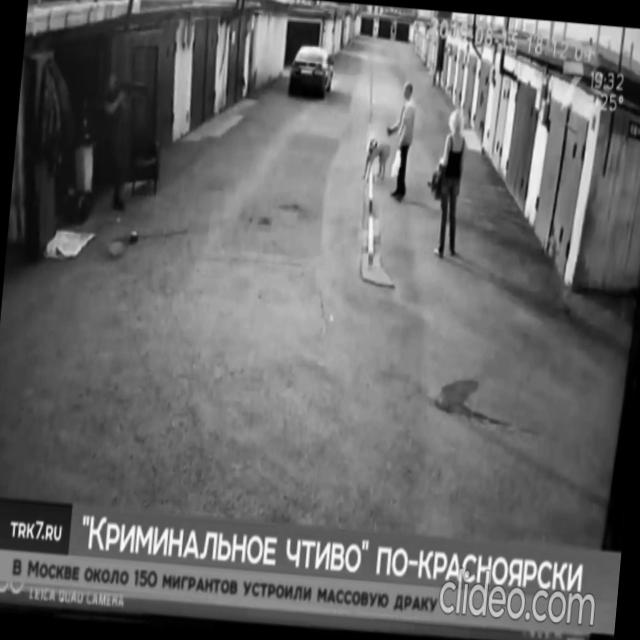gun: (112, 76, 158, 100)
person: (420, 106, 472, 262), (379, 78, 421, 205)
person with a gun: (80, 67, 160, 216)
